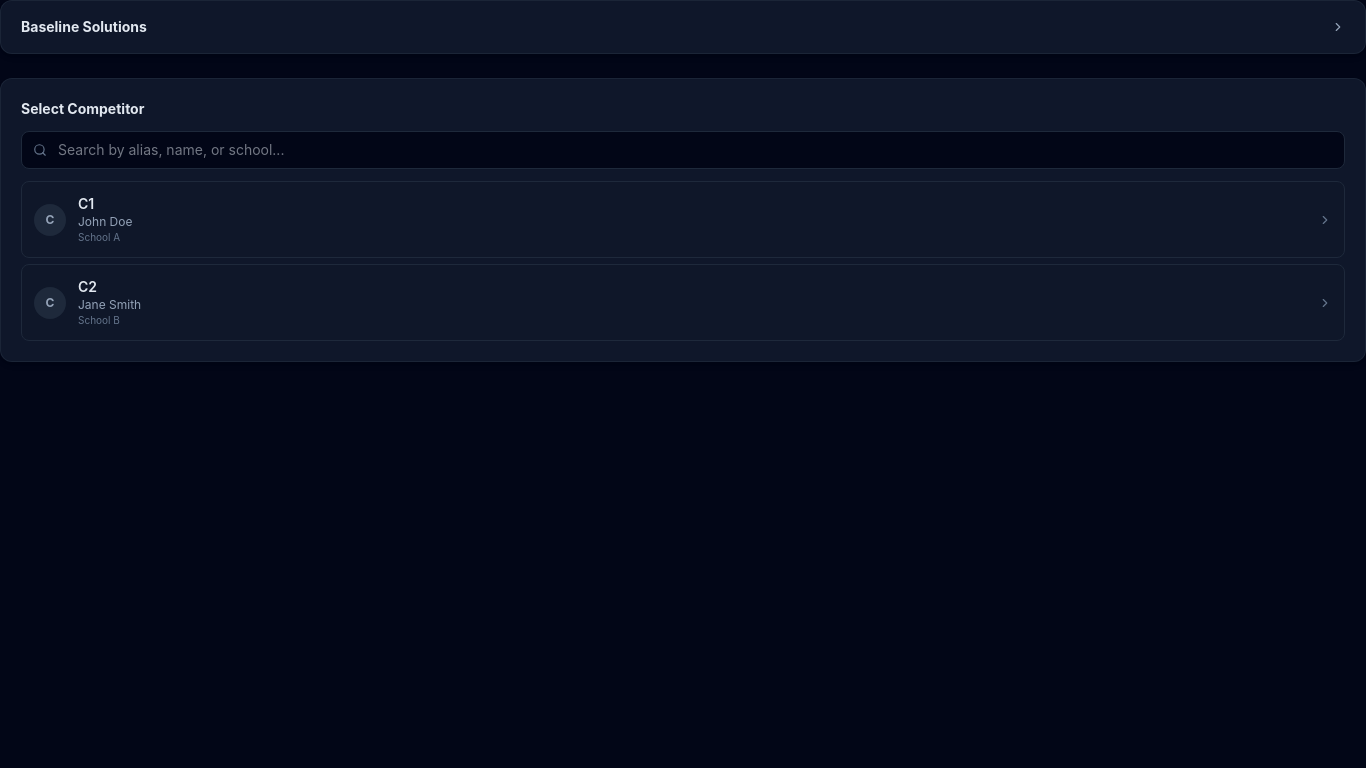
Test: SubmissionsView Page › Admin/Jury view › selects a competitor and fetches their submissions
The width and height of the screenshot is (1366, 768).
Expected: the text "C1" is shown, left=78, top=195, right=94, bottom=212
What coordinates should you click on to do the following:
click the button "C C1 John Doe School A"
I would click on:
 (50, 220)
Its box is left=21, top=181, right=1345, bottom=258.
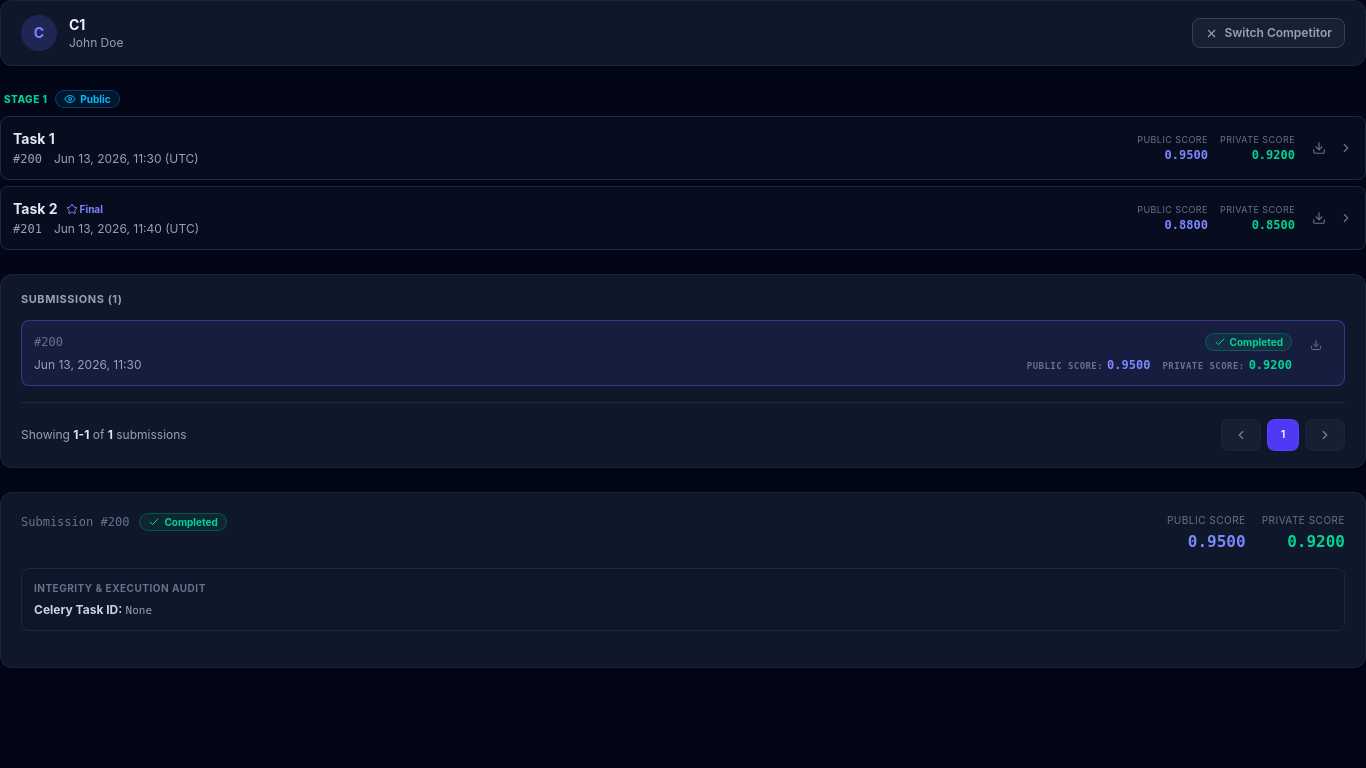
Expected: the button "Switch Competitor" is shown, left=1192, top=18, right=1345, bottom=48
Expected: the text "Stage 1" is shown, left=4, top=92, right=47, bottom=106
Expected: the text "Task 1" is shown, left=13, top=129, right=55, bottom=149
